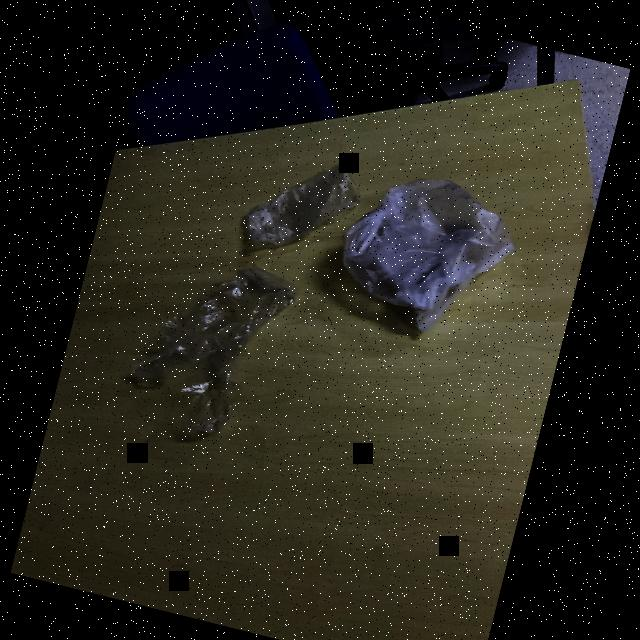plastic_bag: (324, 160, 528, 354), (110, 246, 296, 450), (230, 138, 358, 266)
